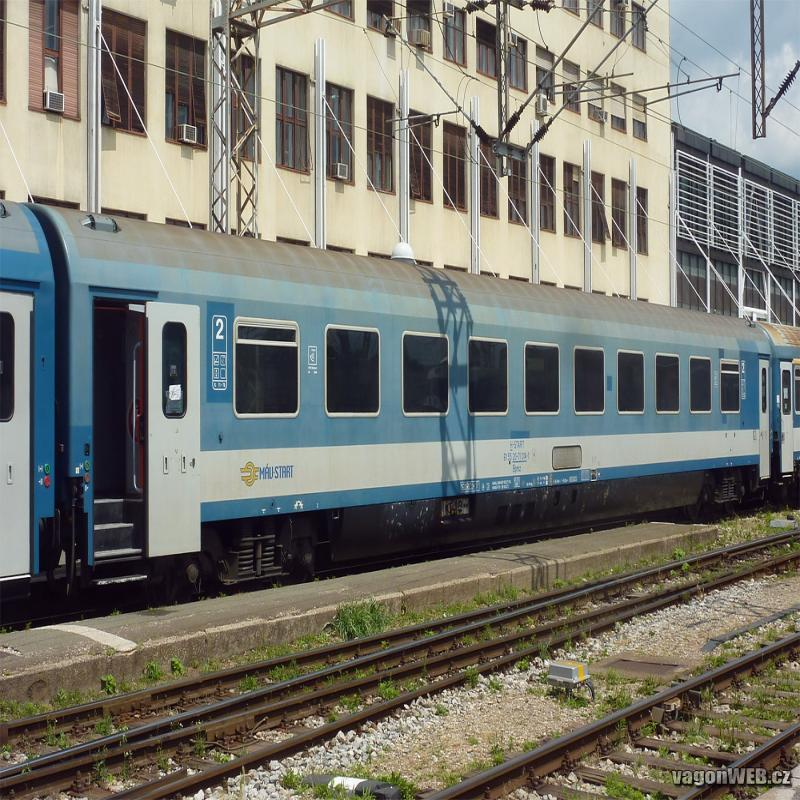train: (25, 203, 775, 618)
